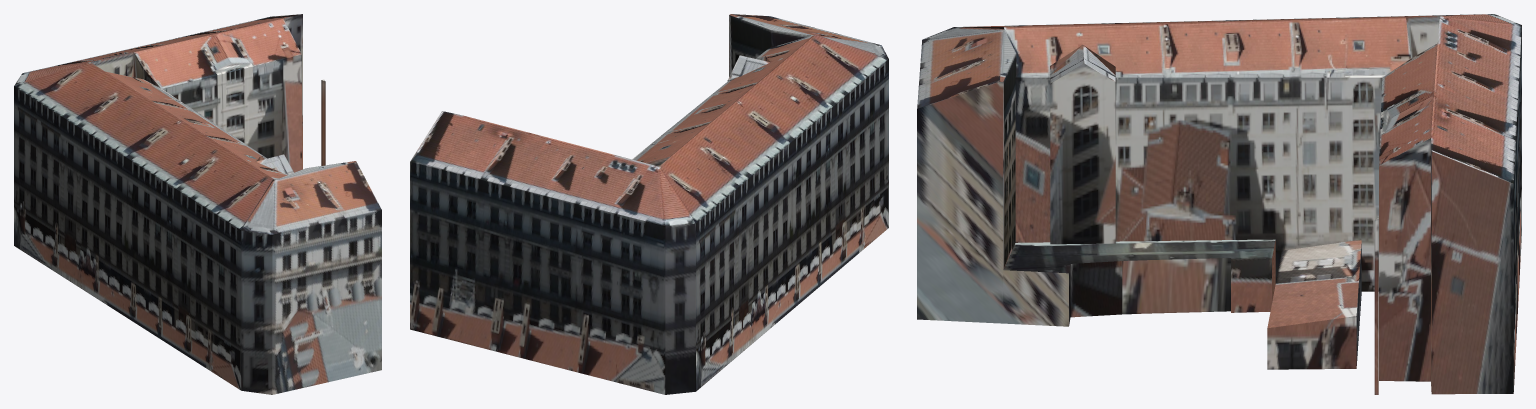
The picture shows the model from 3 angles, left to right: view 1: azimuth 30°, elevation 25°; view 2: azimuth 150°, elevation 25°; view 3: azimuth 270°, elevation 25°; orthographic projection. The views are drawn at different scales.
Visible parts, largest first — view 1: Z_UP; view 2: Z_UP; view 3: Z_UP.
Boxes of the visible parts, bbox=[...] form: Z_UP: bbox=[14, 14, 381, 394]; Z_UP: bbox=[410, 14, 888, 394]; Z_UP: bbox=[917, 14, 1521, 394].
Bounding box in the file's own units: 40.38 × 26.86 × 60.38.
Materials: 2 (1 with a texture image).
